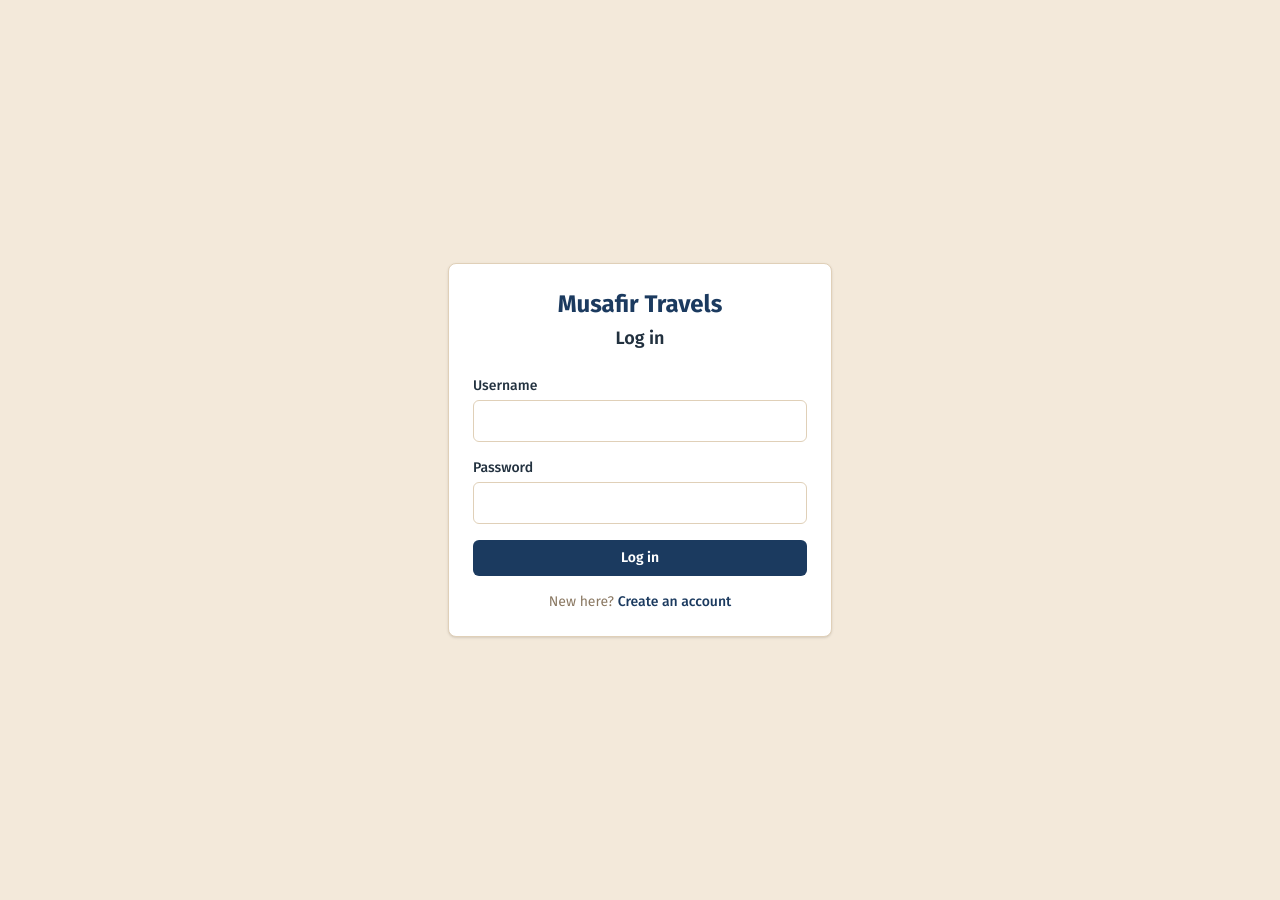
Test: auth pages › shows an inline error on bad credentials and logs in on success
In the field labelled "Username": coordinates (640, 421) top-left (473, 400), bottom-right (807, 442), type "asha"
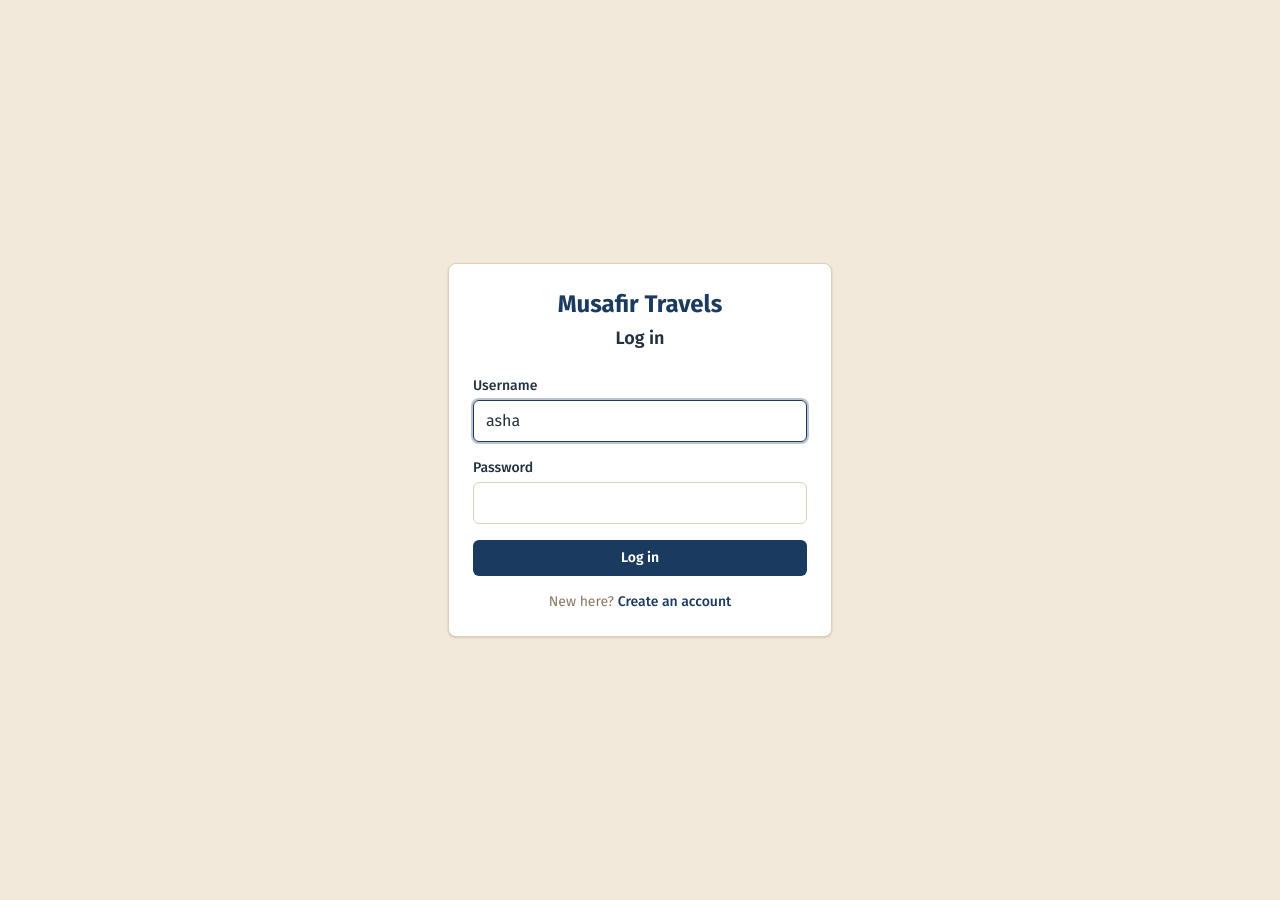
In the password field labelled "Password": coordinates (640, 503) top-left (473, 482), bottom-right (807, 524), type "wrong"
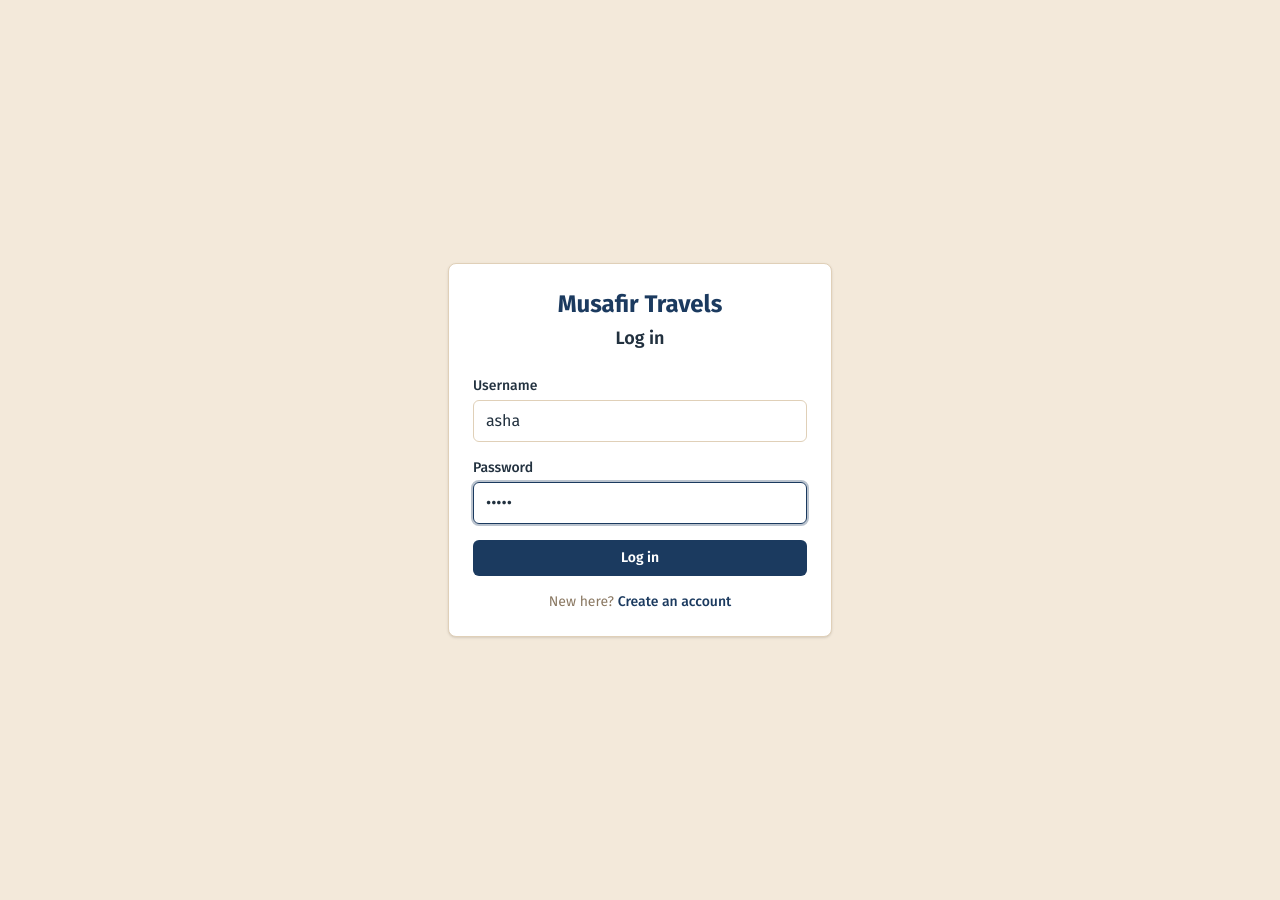
Click the button "Log in": coordinates (640, 558) top-left (473, 540), bottom-right (807, 576)
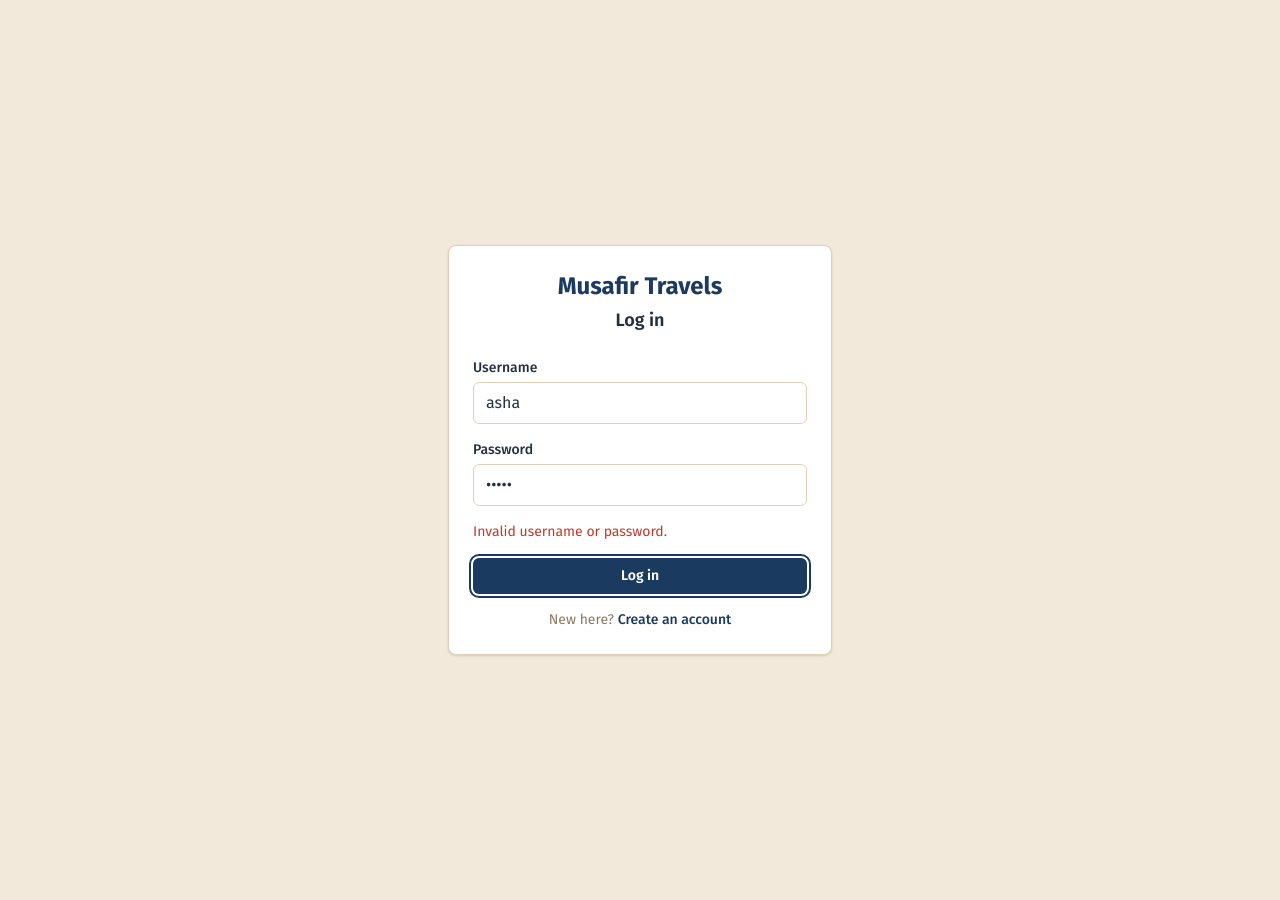
Result: the text "Invalid username or password." is shown at top-left (473, 523), bottom-right (667, 540)
Click the button "Log in": coordinates (640, 576) top-left (473, 558), bottom-right (807, 594)
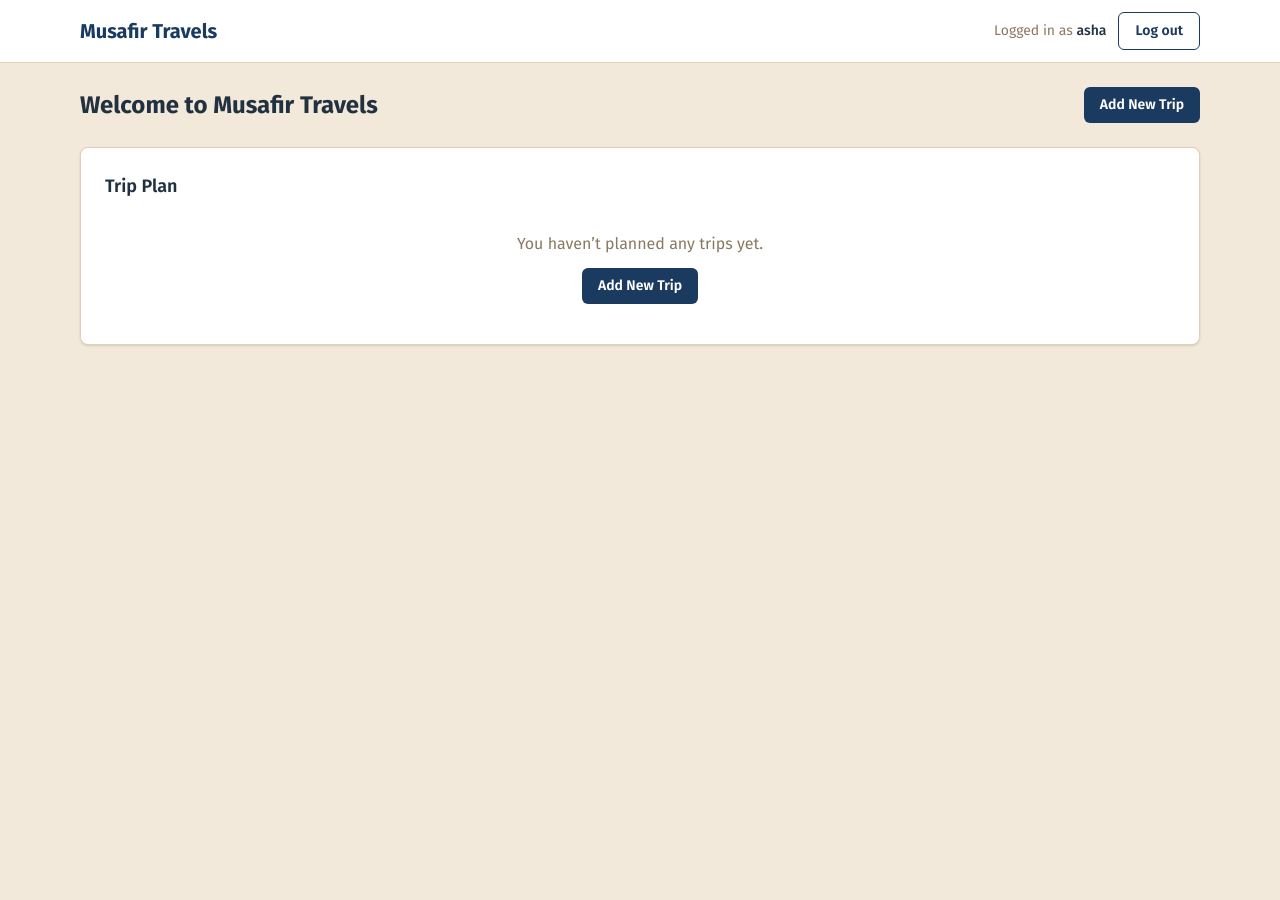
Result: the heading "Welcome to Musafir Travels" is shown at top-left (80, 89), bottom-right (378, 121)
Result: the text "asha" is shown at top-left (1076, 22), bottom-right (1106, 39)
